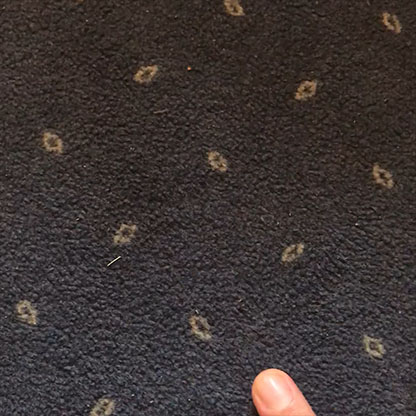fingertip: (243, 362, 311, 413)
